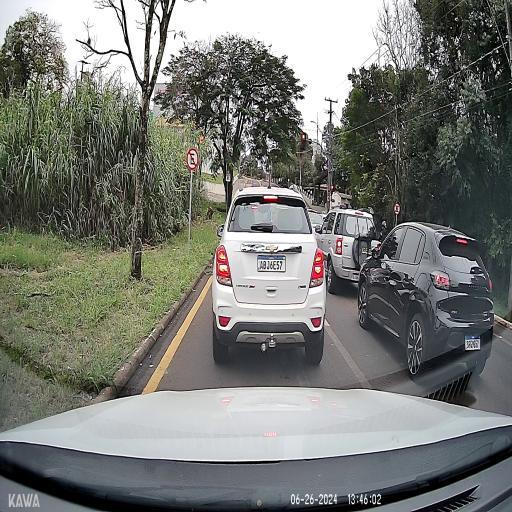R-6a: (186, 147, 198, 170)
R-6c: (394, 202, 400, 215)
